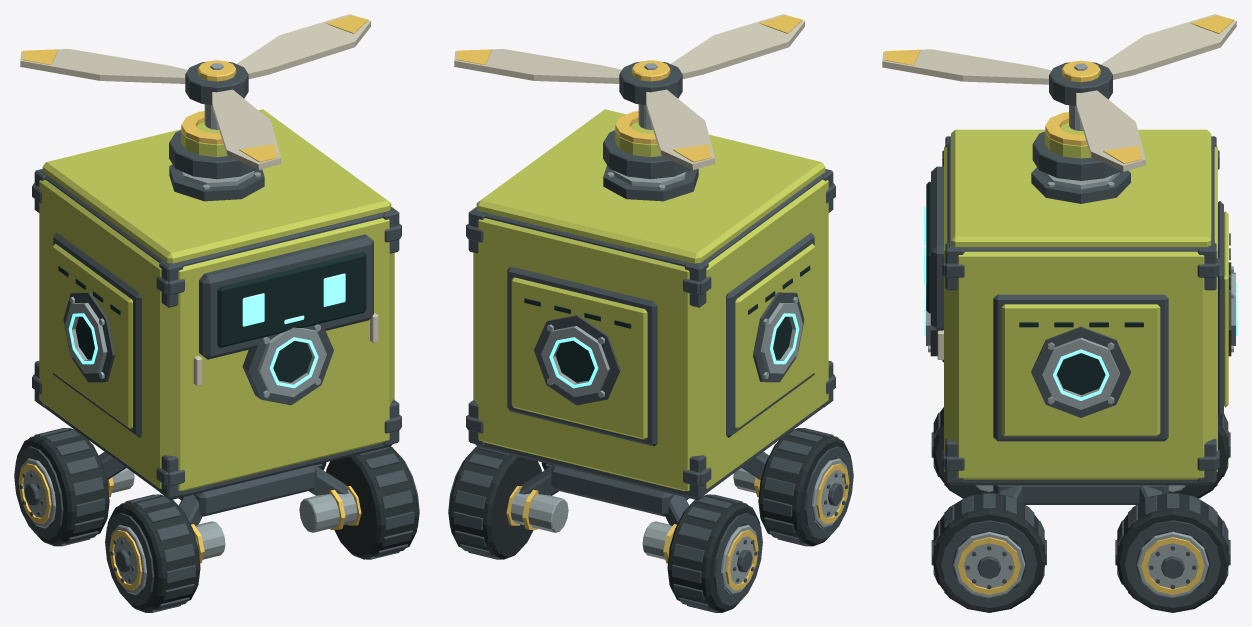
The model's file is core_robot.glb.
3 renders of one model, left to right at view 1: azimuth 30°, elevation 25°; view 2: azimuth 150°, elevation 25°; view 3: azimuth 270°, elevation 25°, orthographic.
Visible parts, largest first — view 1: Core_Mesh, Rotor_Mesh, LeftFront_Wheel_Mesh, LeftRear_Wheel_Mesh, Mobility_Module_Mesh, RightFront_Wheel_Mesh, Flight_Module_Mesh; view 2: Core_Mesh, Rotor_Mesh, LeftRear_Wheel_Mesh, LeftFront_Wheel_Mesh, Mobility_Module_Mesh, RightRear_Wheel_Mesh, Flight_Module_Mesh; view 3: Core_Mesh, Rotor_Mesh, RightFront_Wheel_Mesh, RightRear_Wheel_Mesh, Flight_Module_Mesh, Mobility_Module_Mesh, LeftFront_Wheel_Mesh, LeftRear_Wheel_Mesh.
Part boxes in pixels (x1,y1,x2,y2): Core_Mesh: (32, 109, 401, 499); Rotor_Mesh: (20, 14, 371, 169); LeftFront_Wheel_Mesh: (105, 494, 200, 612); LeftRear_Wheel_Mesh: (14, 428, 109, 546); Mobility_Module_Mesh: (98, 452, 361, 563); RightFront_Wheel_Mesh: (326, 446, 419, 559); Flight_Module_Mesh: (169, 104, 256, 179); Core_Mesh: (466, 109, 835, 499); Rotor_Mesh: (454, 14, 805, 169); LeftRear_Wheel_Mesh: (667, 494, 762, 612); LeftFront_Wheel_Mesh: (758, 428, 853, 546); Mobility_Module_Mesh: (506, 452, 769, 563); RightRear_Wheel_Mesh: (448, 446, 541, 559); Flight_Module_Mesh: (603, 104, 690, 179); Core_Mesh: (923, 129, 1237, 485); Rotor_Mesh: (882, 14, 1236, 171); RightFront_Wheel_Mesh: (931, 492, 1046, 612); RightRear_Wheel_Mesh: (1115, 492, 1230, 612); Flight_Module_Mesh: (1032, 105, 1121, 180); Mobility_Module_Mesh: (975, 485, 1186, 504); LeftFront_Wheel_Mesh: (931, 407, 993, 498); LeftRear_Wheel_Mesh: (1168, 414, 1230, 498).
Bounding box in the file's own units: 1.35 × 1.95 × 1.3.
